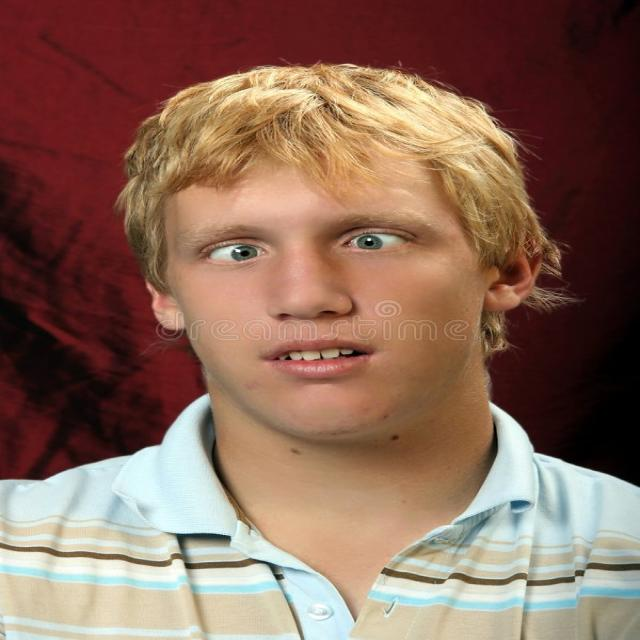Squint: (320, 219, 427, 261), (197, 227, 280, 281)
